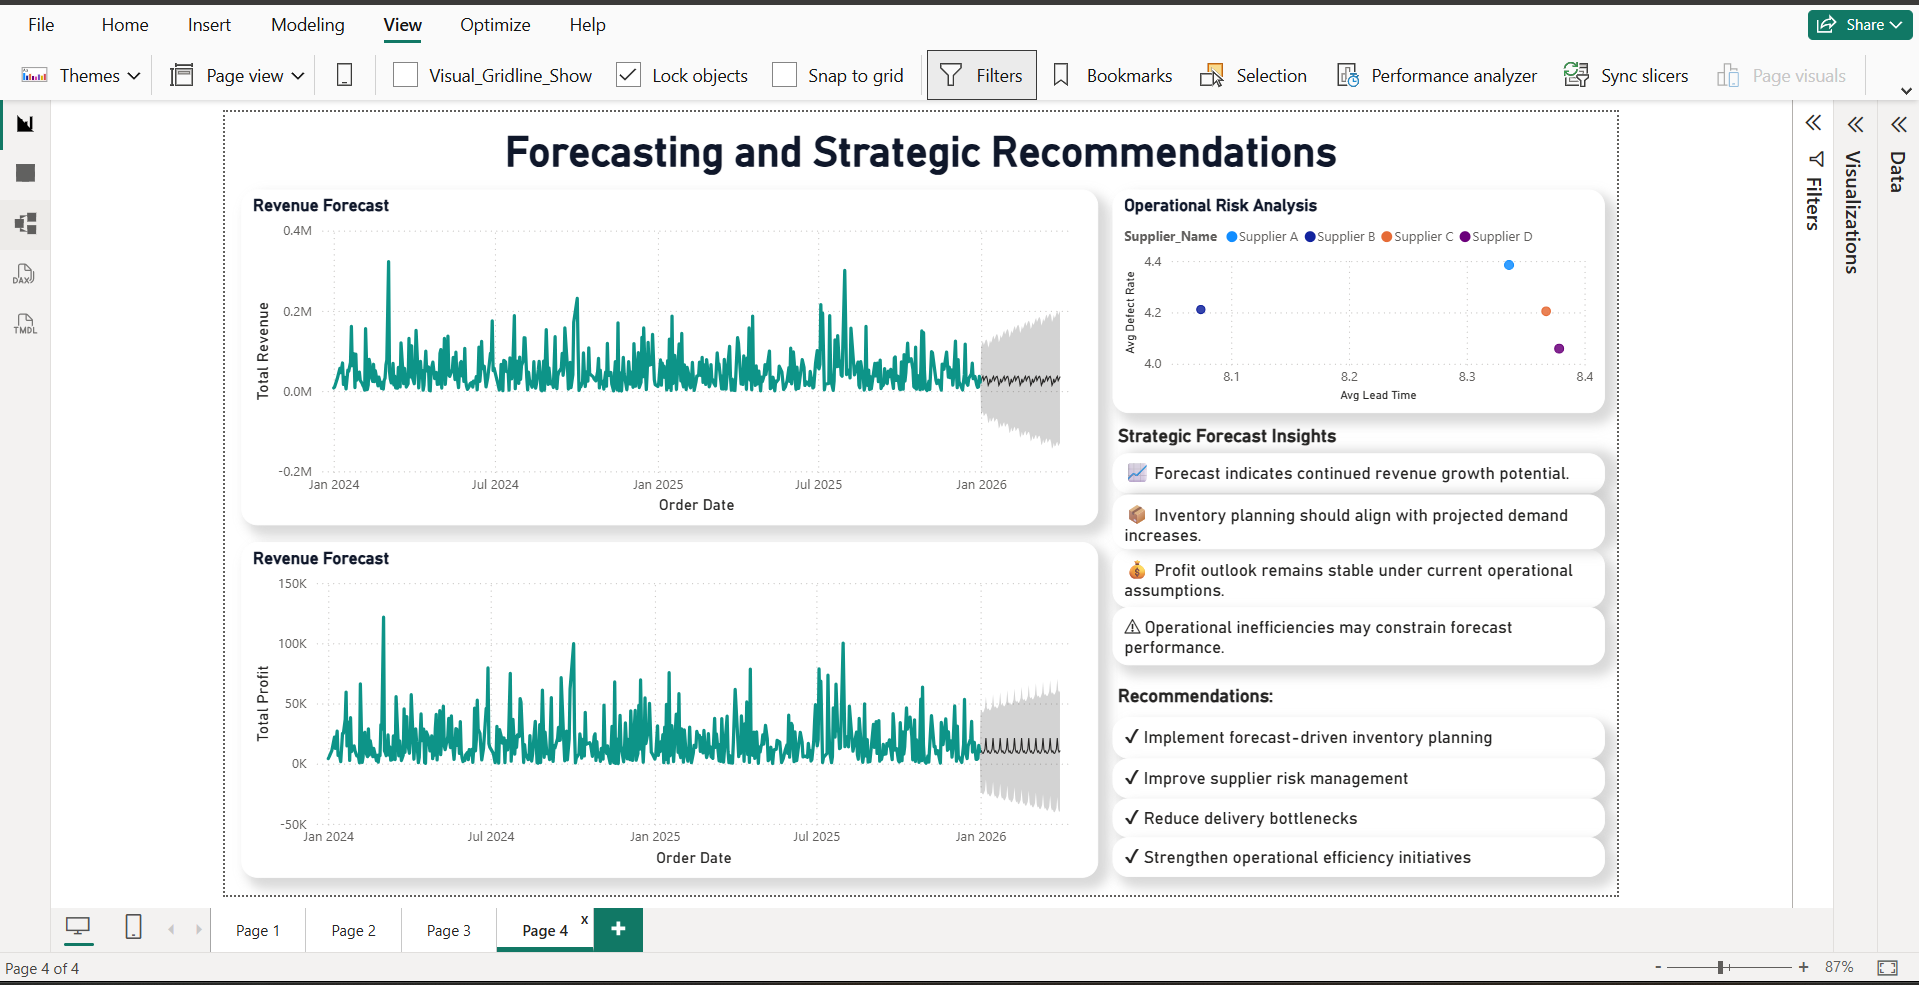

Layout of this report page (visuals, bound fields, positions):
{"tool":"powerbi","page":{"name":"Page 4","canvas":[1280,720],"ordinal":3},"visuals":[{"type":"textbox","title":"Forecasting and Strategic Recommendations","box":[0,13.7,1280.3,45.3],"z":0},{"type":"lineChart","title":"Revenue Forecast","fields":{"Category":["supply_chain_project supply_chain.Order_Date"],"Y":["supply_chain_project supply_chain.Total Revenue"]},"box":[15.1,71.4,787.7,308.7],"z":1},{"type":"lineChart","title":"Revenue Forecast","fields":{"Category":["supply_chain_project supply_chain.Order_Date"],"Y":["supply_chain_project supply_chain.Total Profit"]},"box":[15.1,395.2,787.7,308.7],"z":2},{"type":"textbox","title":"Strategic Forecast Insights","box":[816.5,286.8,452.8,222.3],"z":3},{"type":"textbox","title":"📈 Forecast indicates continued revenue growth potential.","box":[816.5,314.2,452.8,37],"z":4},{"type":"textbox","title":"💰 Profit outlook remains stable under current operational assumptions.","box":[816.5,402.1,452.8,53.5],"z":5},{"type":"textbox","title":"📦 Inventory planning should align with projected demand increases.","box":[816.5,351.3,452.8,50.8],"z":6},{"type":"textbox","title":"⚠ Operational inefficiencies may constrain forecast performance.","box":[816.5,455.6,452.8,53.5],"z":7},{"type":"textbox","title":"Recommendations:","box":[816.5,526.9,452.8,177],"z":8},{"type":"textbox","title":"✔ Implement forecast-driven inventory planning","box":[816.5,555.7,452.8,38.4],"z":9},{"type":"textbox","title":"✔ Improve supplier risk management","box":[816.5,594.2,452.8,37],"z":10},{"type":"textbox","title":"✔ Reduce delivery bottlenecks","box":[816.5,631.2,452.8,35.7],"z":11},{"type":"textbox","title":"✔ Strengthen operational efficiency initiatives","box":[816.5,666.9,452.8,37],"z":12},{"type":"scatterChart","title":"Operational Risk Analysis","fields":{"Series":["supply_chain_project supply_chain.Supplier_Name"],"Size":["Sum(supply_chain_project supply_chain.Revenue)"],"X":["supply_chain_project supply_chain.Avg Lead Time"],"Y":["supply_chain_project supply_chain.Avg Defect Rate"]},"box":[816.5,71.4,452.8,205.8],"z":13}]}

Visuals, with their boxes on the page's 1280x720 design canvas (x1, y1, x2, y2). These are canvas units, not pixel positions in the 1919x985 screenshot, which may show the page scaled, cropped or inside an application window:
"Forecasting and Strategic Recommendations" textbox: [0, 14, 1280, 59]
"Revenue Forecast" lineChart: [15, 71, 803, 380]
"Revenue Forecast" lineChart: [15, 395, 803, 704]
"Strategic Forecast Insights" textbox: [816, 287, 1269, 509]
"📈 Forecast indicates continued revenue growth potential." textbox: [816, 314, 1269, 351]
"💰 Profit outlook remains stable under current operational assumptions." textbox: [816, 402, 1269, 456]
"📦 Inventory planning should align with projected demand increases." textbox: [816, 351, 1269, 402]
"⚠ Operational inefficiencies may constrain forecast performance." textbox: [816, 456, 1269, 509]
"Recommendations:" textbox: [816, 527, 1269, 704]
"✔ Implement forecast-driven inventory planning" textbox: [816, 556, 1269, 594]
"✔ Improve supplier risk management" textbox: [816, 594, 1269, 631]
"✔ Reduce delivery bottlenecks" textbox: [816, 631, 1269, 667]
"✔ Strengthen operational efficiency initiatives" textbox: [816, 667, 1269, 704]
"Operational Risk Analysis" scatterChart: [816, 71, 1269, 277]
